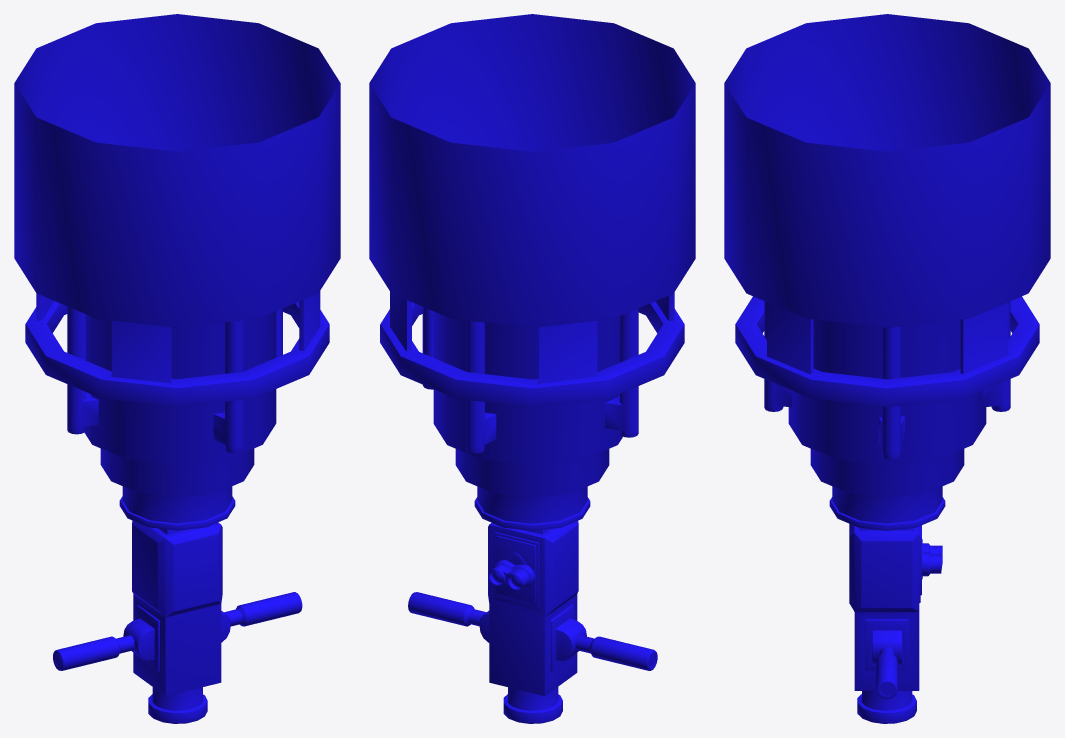
Rendered from SM_Periscope.fbx.
3 views of the same model, side by side, from view 1: azimuth 30°, elevation 25°; view 2: azimuth 150°, elevation 25°; view 3: azimuth 270°, elevation 25° (orthographic).
Parts seen in each view (by area): view 1: Periscope_lp; view 2: Periscope_lp; view 3: Periscope_lp.
Part boxes in pixels (x1,y1,x2,y2): Periscope_lp: [14, 14, 340, 723]; Periscope_lp: [369, 14, 695, 723]; Periscope_lp: [724, 14, 1050, 723].
Bounding box in the file's own units: 20.77 × 44.68 × 20.77.
